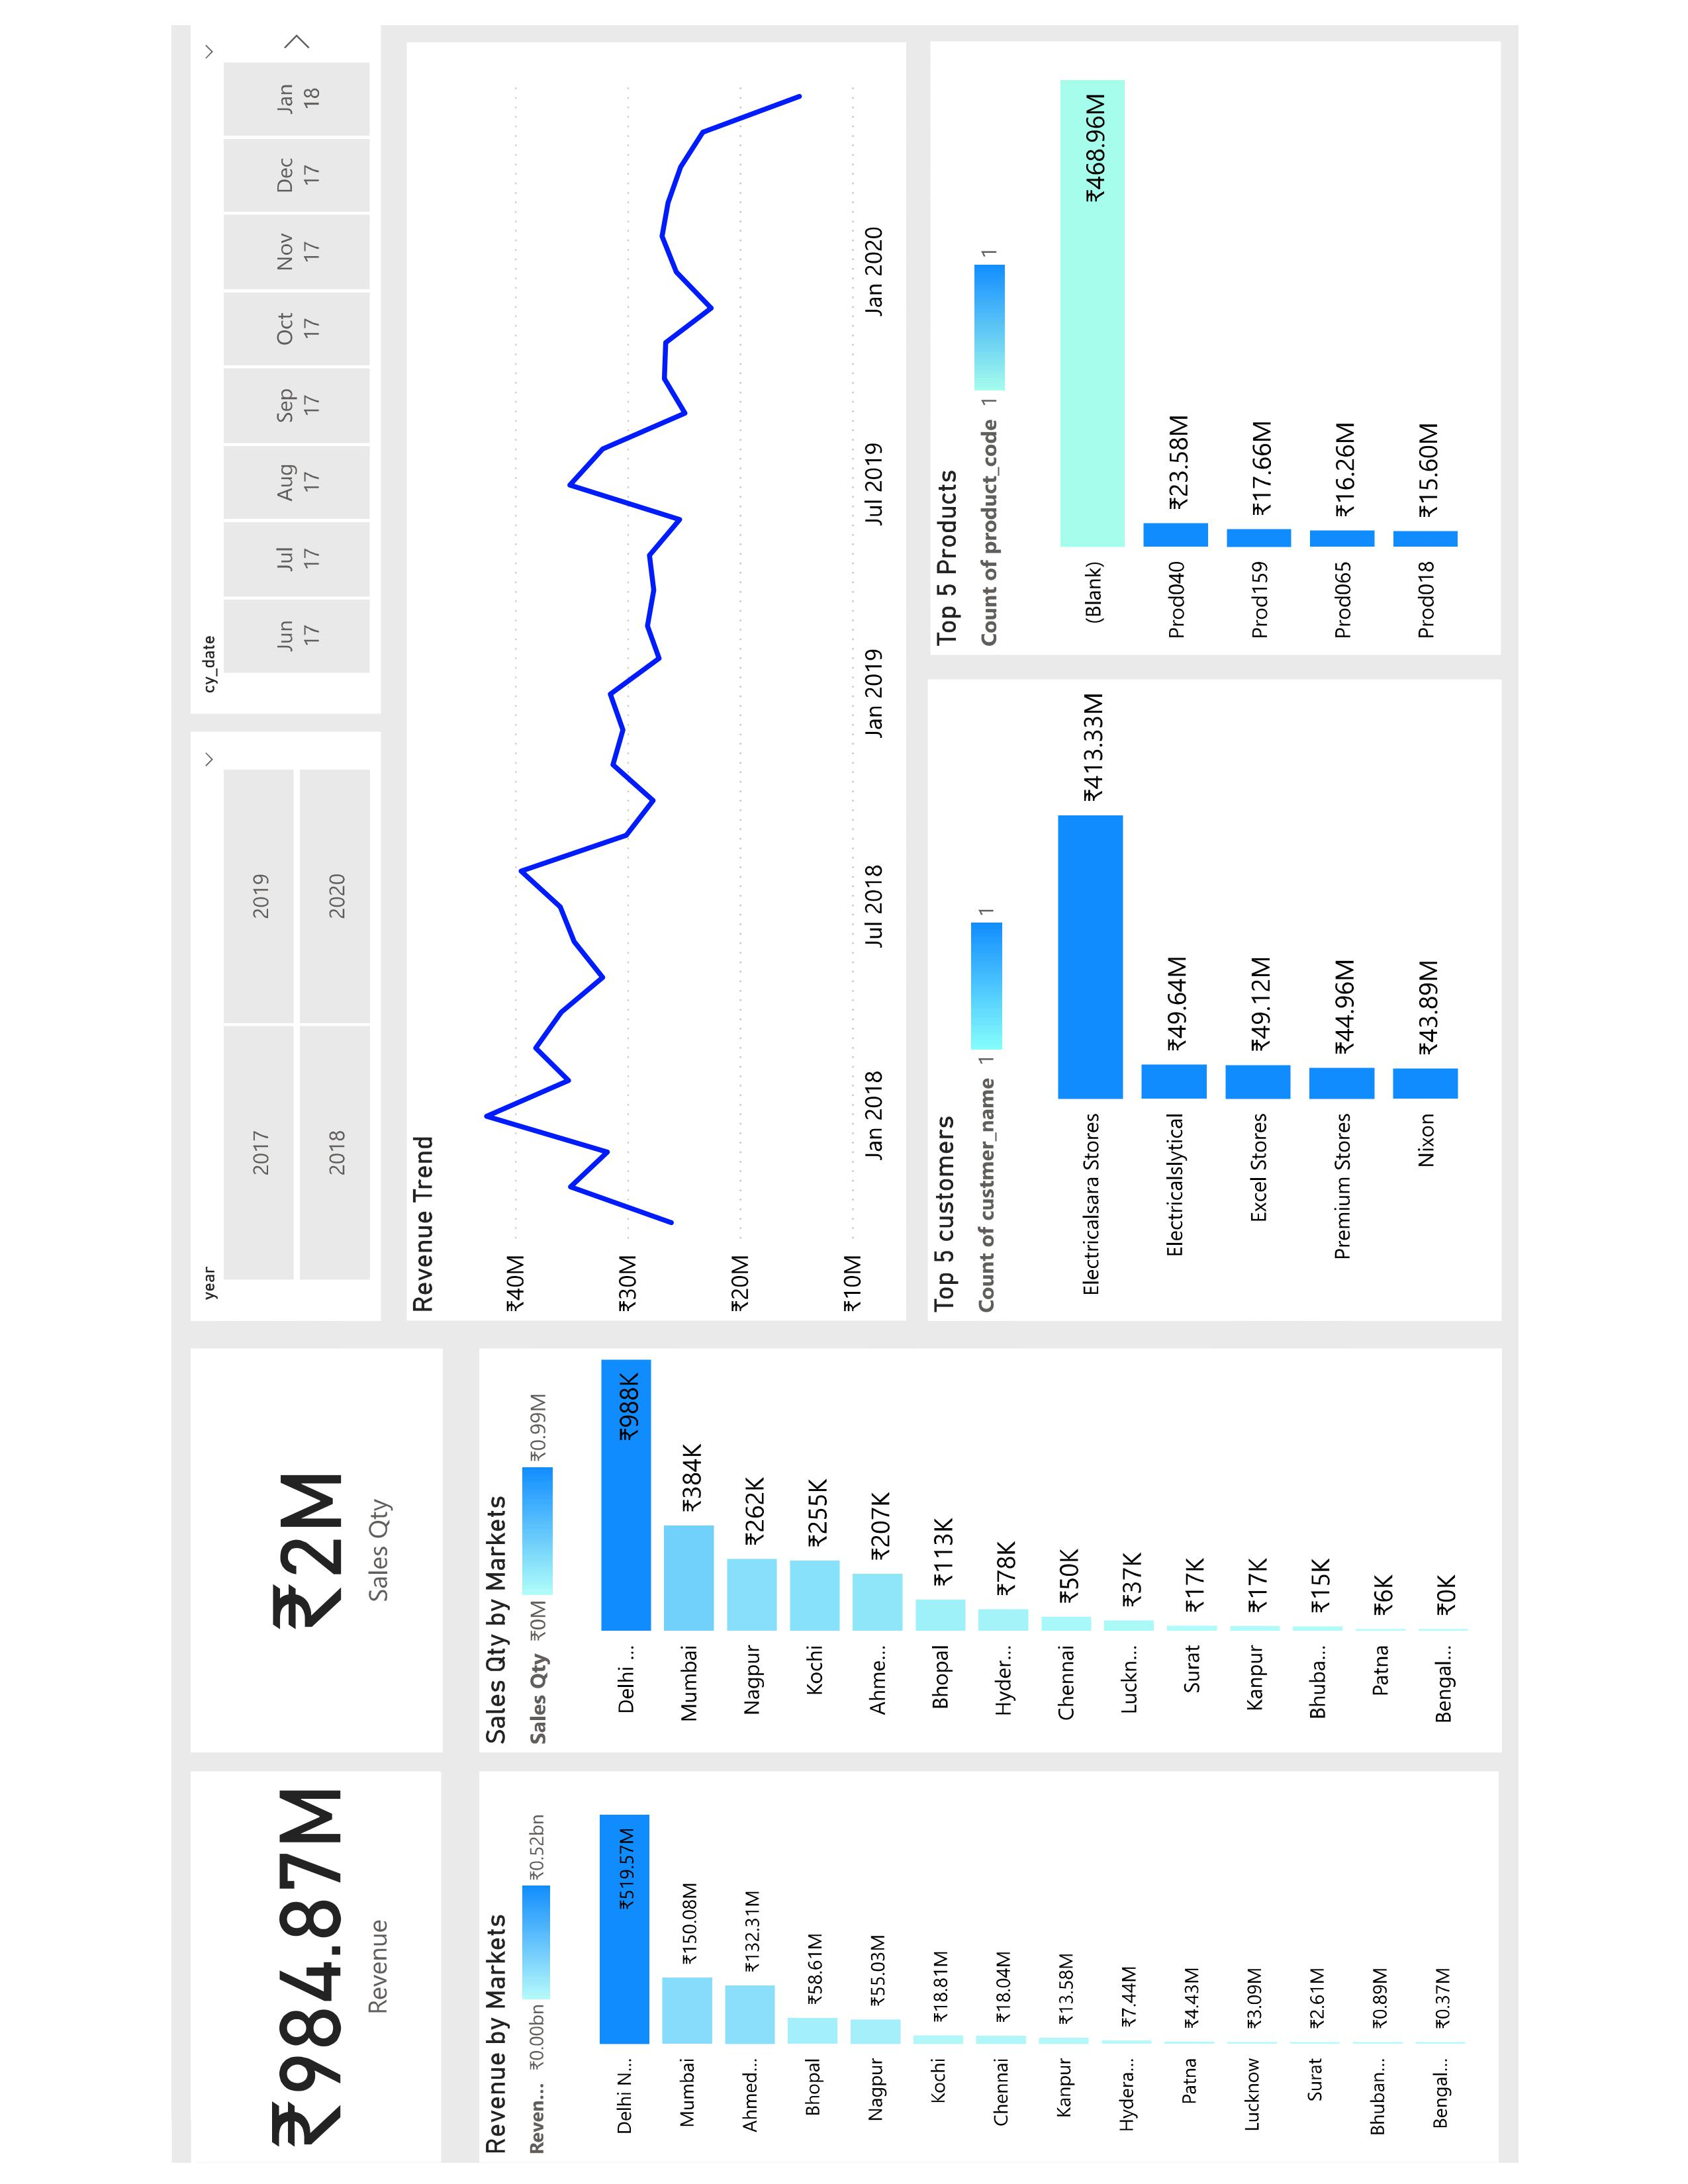

The dashboard page shown, as its layout file describes it:
{"tool":"powerbi","page":{"name":"Key insights","canvas":[1350,850],"ordinal":0},"visuals":[{"type":"card","fields":{"Values":["BaseMeasures (2).Revenue"]},"box":[0,12,246.9,157.7],"z":0},{"type":"card","fields":{"Values":["BaseMeasures (2).Sales Qty"]},"box":[258.9,12,255.4,159.4],"z":1000},{"type":"barChart","title":"Revenue by Markets","fields":{"Category":["sales markets.markets_name"],"Y":["BaseMeasures (2).Revenue"]},"box":[0,193.7,246.9,642.9],"z":2000},{"type":"barChart","title":"Sales Qty by Markets","fields":{"Y":["BaseMeasures (2).Sales Qty"],"Category":["sales markets.markets_name"]},"box":[258.9,193.7,255.4,644.6],"z":3000},{"type":"slicer","fields":{"Values":["sales date.year"]},"box":[531.4,12,372,120],"z":4000},{"type":"slicer","fields":{"Values":["sales date.cy_date"]},"box":[915.4,12,435.4,120],"z":5000},{"type":"barChart","title":"Top 5 customers","fields":{"Category":["sales customers.custmer_name"],"Y":["BaseMeasures (2).Revenue"]},"box":[531.4,476.6,404.6,361.7],"z":6000},{"type":"barChart","title":"Top 5 Products","fields":{"Category":["sales products.product_code"],"Y":["BaseMeasures (2).Revenue"]},"box":[951.4,478.3,387.4,360],"z":7000},{"type":"lineChart","title":"Revenue Trend","fields":{"Y":["BaseMeasures (2).Revenue"],"Category":["sales date.cy_date"]},"box":[531.4,147.4,807.4,315.4],"z":8000}]}

Visuals, with their boxes on the page's 1350x850 design canvas (x1, y1, x2, y2). These are canvas units, not pixel positions in the 1688x2184 screenshot, which may show the page scaled, cropped or inside an application window:
card - BaseMeasures (2).Revenue: (left=0, top=12, right=247, bottom=170)
card - BaseMeasures (2).Sales Qty: (left=259, top=12, right=514, bottom=171)
"Revenue by Markets" barChart: (left=0, top=194, right=247, bottom=837)
"Sales Qty by Markets" barChart: (left=259, top=194, right=514, bottom=838)
slicer - sales date.year: (left=531, top=12, right=903, bottom=132)
slicer - sales date.cy_date: (left=915, top=12, right=1351, bottom=132)
"Top 5 customers" barChart: (left=531, top=477, right=936, bottom=838)
"Top 5 Products" barChart: (left=951, top=478, right=1339, bottom=838)
"Revenue Trend" lineChart: (left=531, top=147, right=1339, bottom=463)
